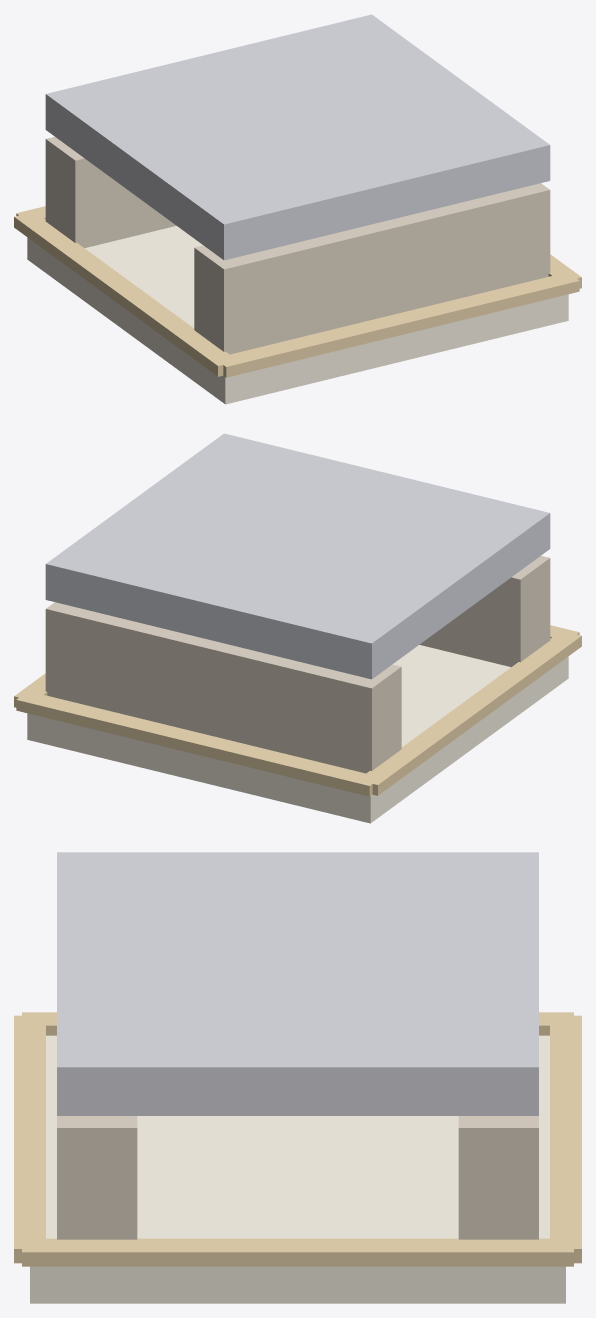
The model's file is city.underpass.glb.
The picture shows the model from 3 angles, top to bottom: view 1: azimuth 30°, elevation 25°; view 2: azimuth 150°, elevation 25°; view 3: azimuth 270°, elevation 25°; orthographic projection. The views are drawn at different scales.
Parts seen in each view (by area): view 1: city.underpass; view 2: city.underpass; view 3: city.underpass.
Part boxes in pixels (box(x1,y1,x2,y2)): city.underpass: box(14, 14, 581, 404); city.underpass: box(14, 433, 581, 823); city.underpass: box(14, 852, 581, 1303).
Bounding box in the file's own units: 2.12 × 0.95 × 2.12.
